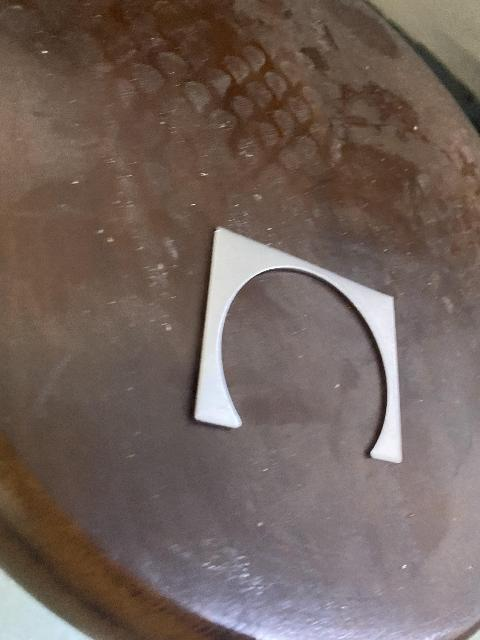Metal: (192, 225, 404, 462)
